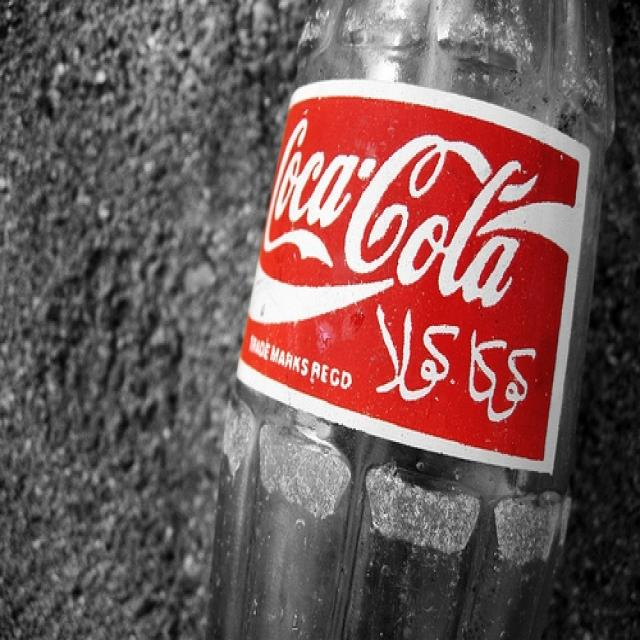cocacola: (261, 104, 581, 320)
